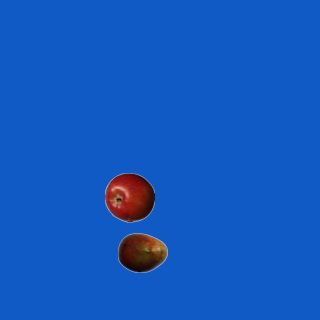Apple Braeburn: (104, 172, 154, 222)
Mango Red: (117, 227, 167, 277)
